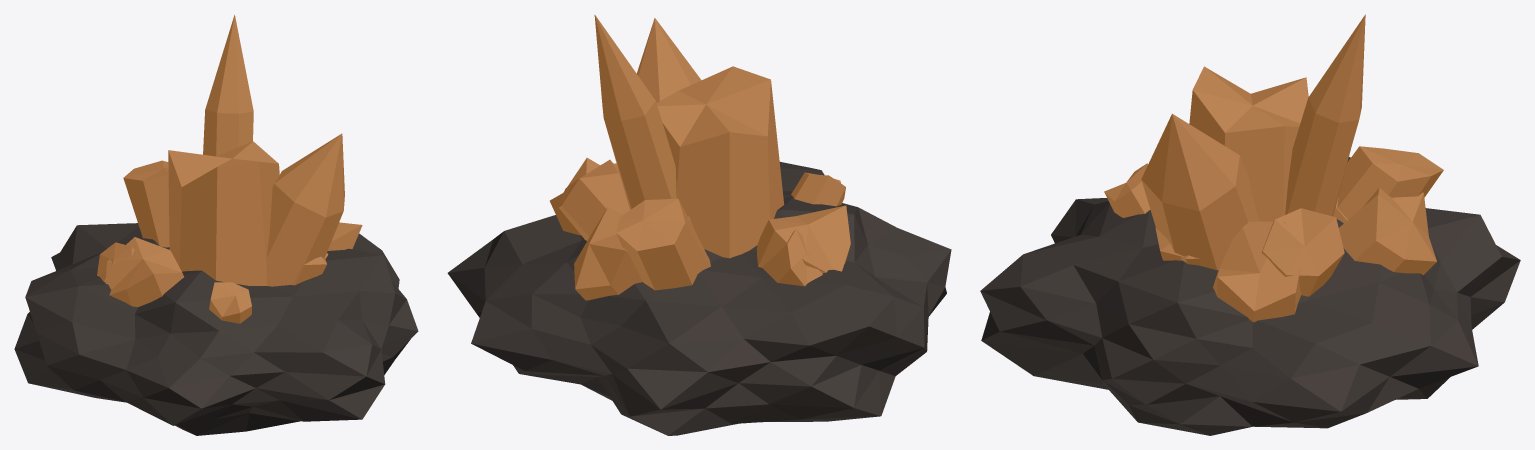
Rendered from wb_crystal_core_broken.glb.
The picture shows the model from 3 angles, left to right: view 1: azimuth 30°, elevation 25°; view 2: azimuth 150°, elevation 25°; view 3: azimuth 270°, elevation 25°; orthographic projection. The views are drawn at different scales.
Parts seen in each view (by area): view 1: wb_crystal_core_broken; view 2: wb_crystal_core_broken; view 3: wb_crystal_core_broken.
Part boxes in pixels (x1,y1,x2,y2): wb_crystal_core_broken: (14, 14, 418, 435); wb_crystal_core_broken: (447, 14, 951, 435); wb_crystal_core_broken: (980, 14, 1520, 435).
Bounding box in the file's own units: 1.89 × 1.62 × 1.96.
